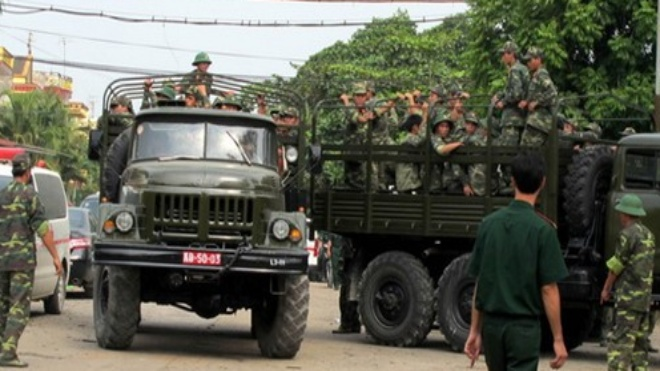plate: (178, 248, 224, 268)
